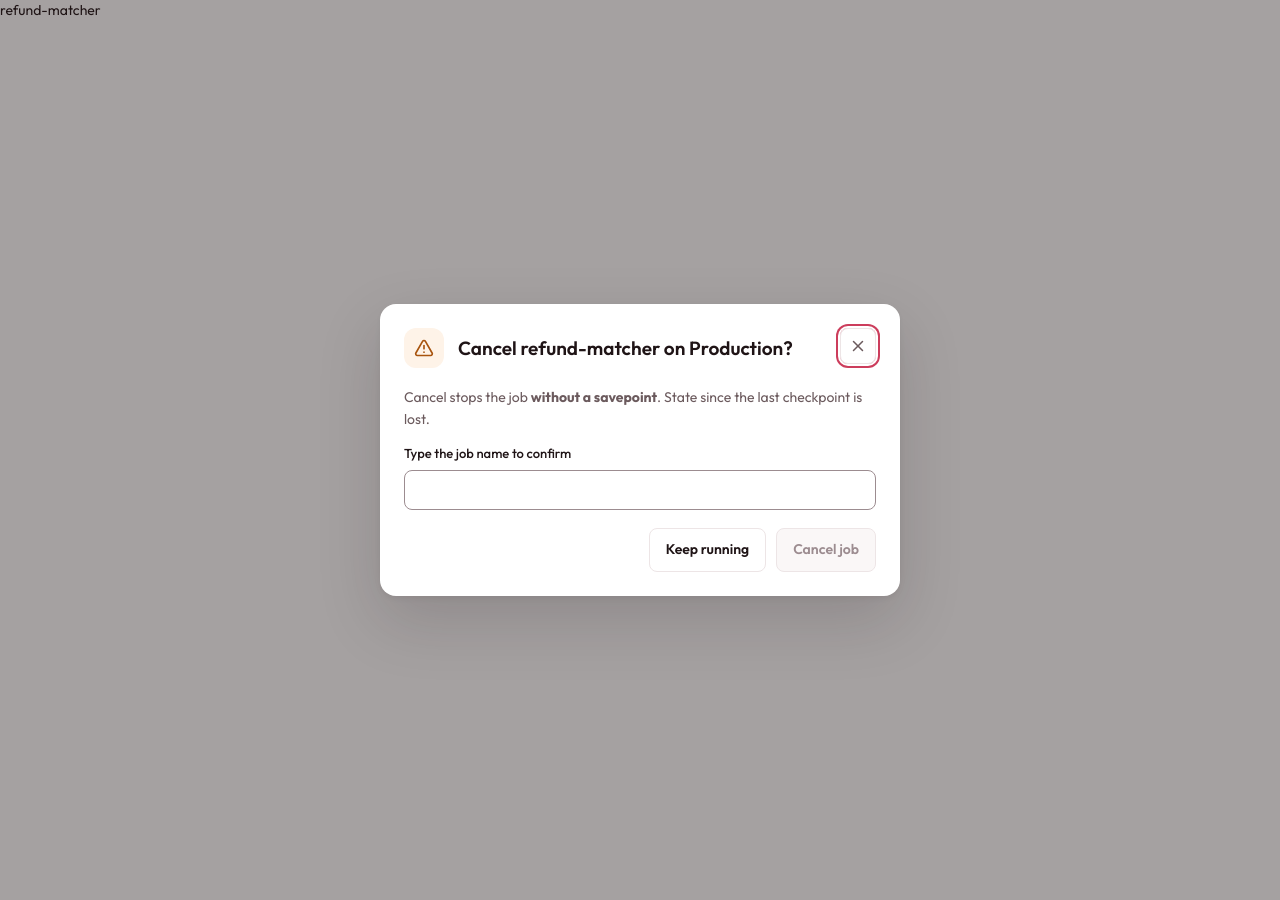
Test: ACT-02 · cancel (D15e) › D15e on prod: names the cost, needs the job name typed exactly before Cancel job does anything
This screenshot has width=1280, height=900.
expect the dialog "Cancel refund-matcher on Production?" shows "Cancel stops the job without a savepoint. State since the last checkpoint is lost.": met, box x1=380 y1=304 x2=900 y2=596
Type "refund-matc" into the field labelled "Type the job name to confirm" at (640, 490), box x1=404 y1=470 x2=876 y2=510
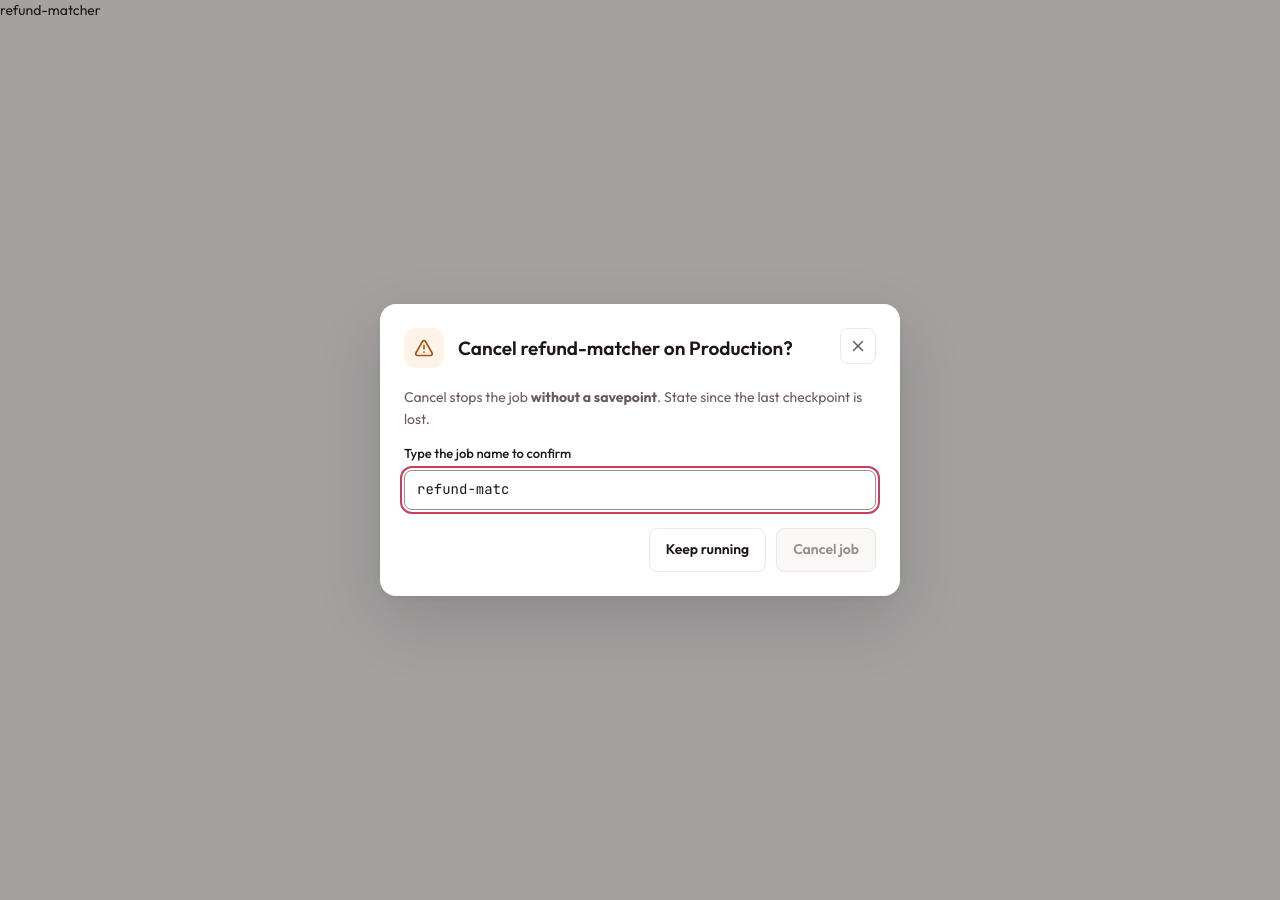
Click the button "Cancel job" at (826, 550), box x1=776 y1=528 x2=876 y2=572
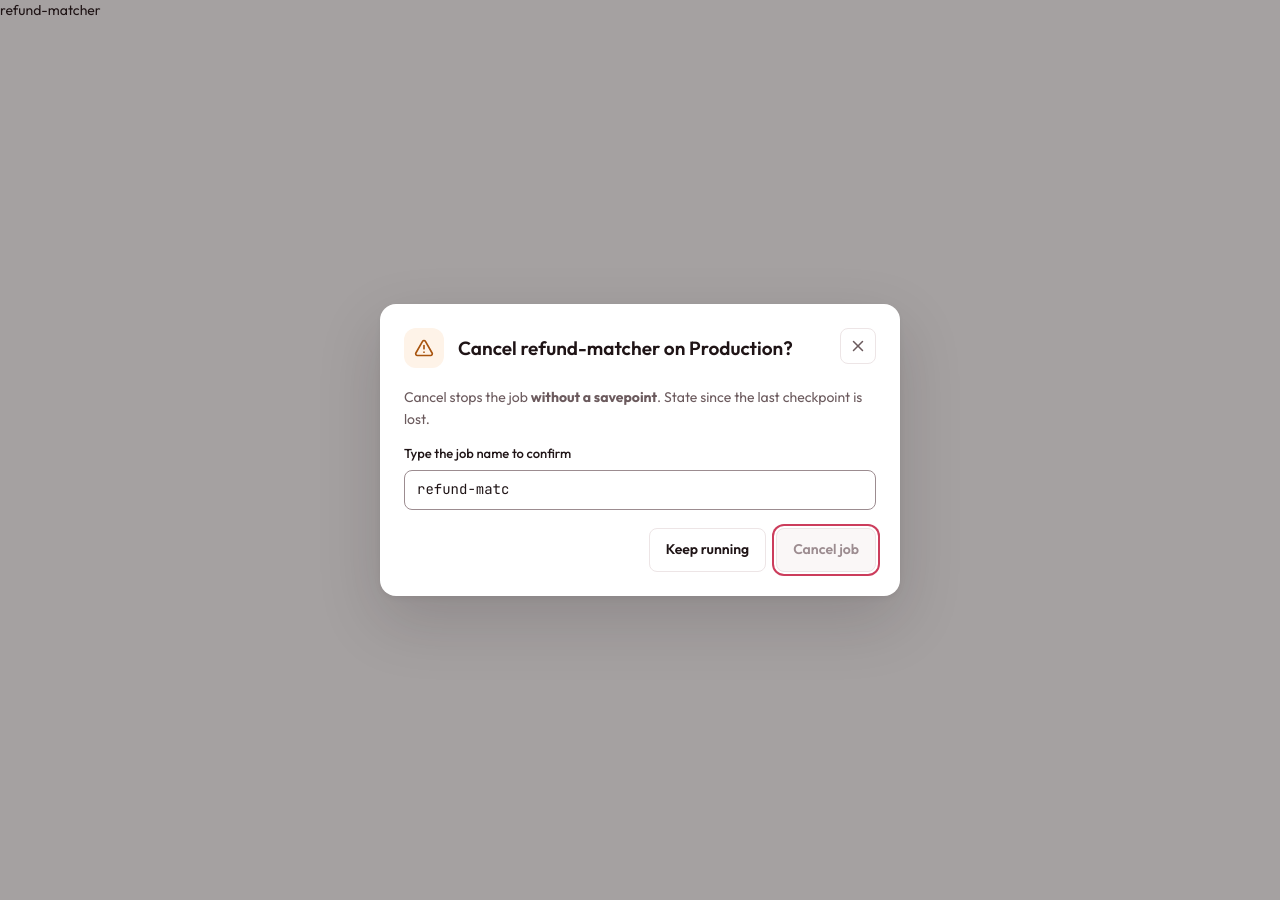
Type "her" into the field labelled "Type the job name to confirm" at (640, 490), box x1=404 y1=470 x2=876 y2=510
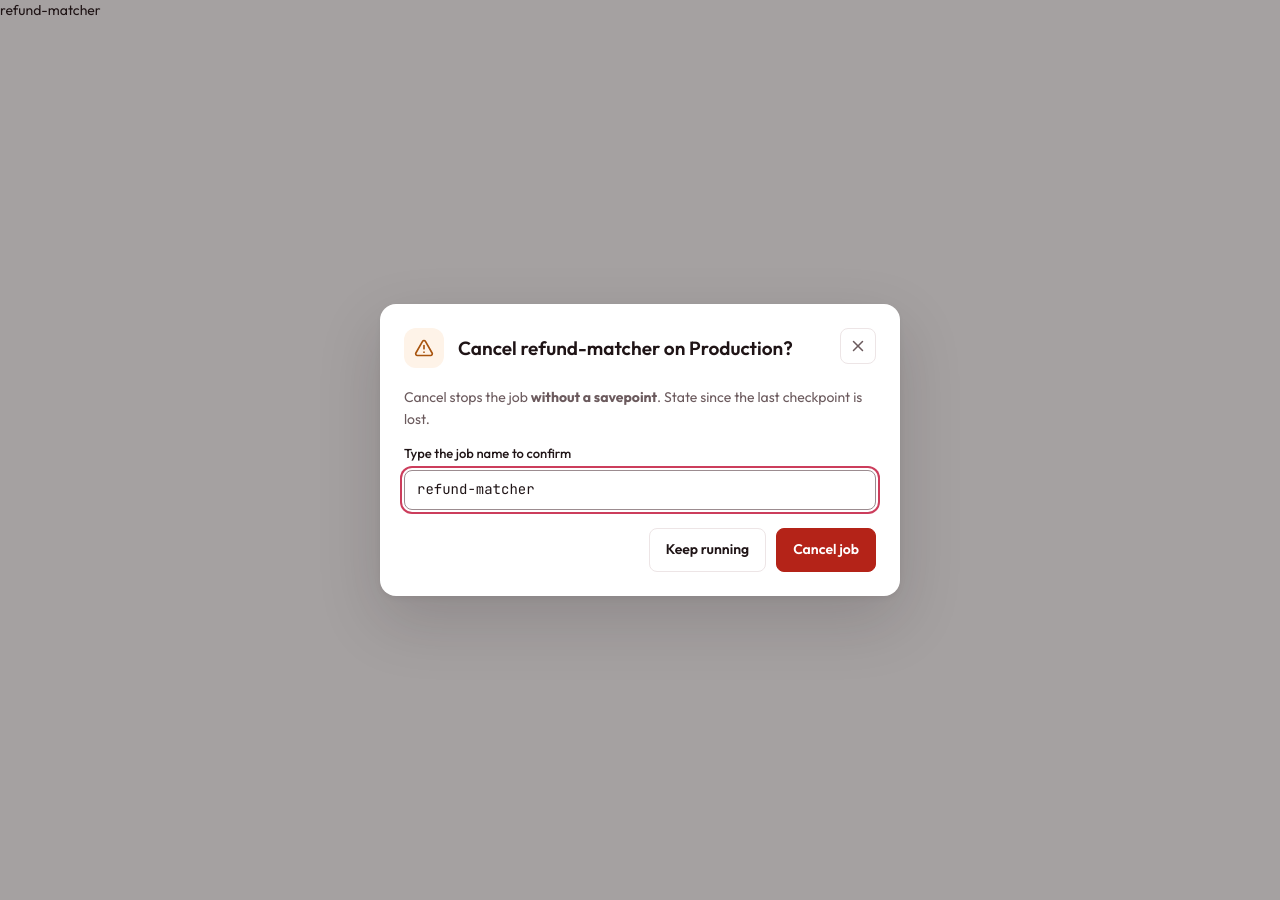
expect the button "Cancel job" does not have attribute aria-disabled: met
Click the button "Cancel job" at (826, 550), box x1=776 y1=528 x2=876 y2=572
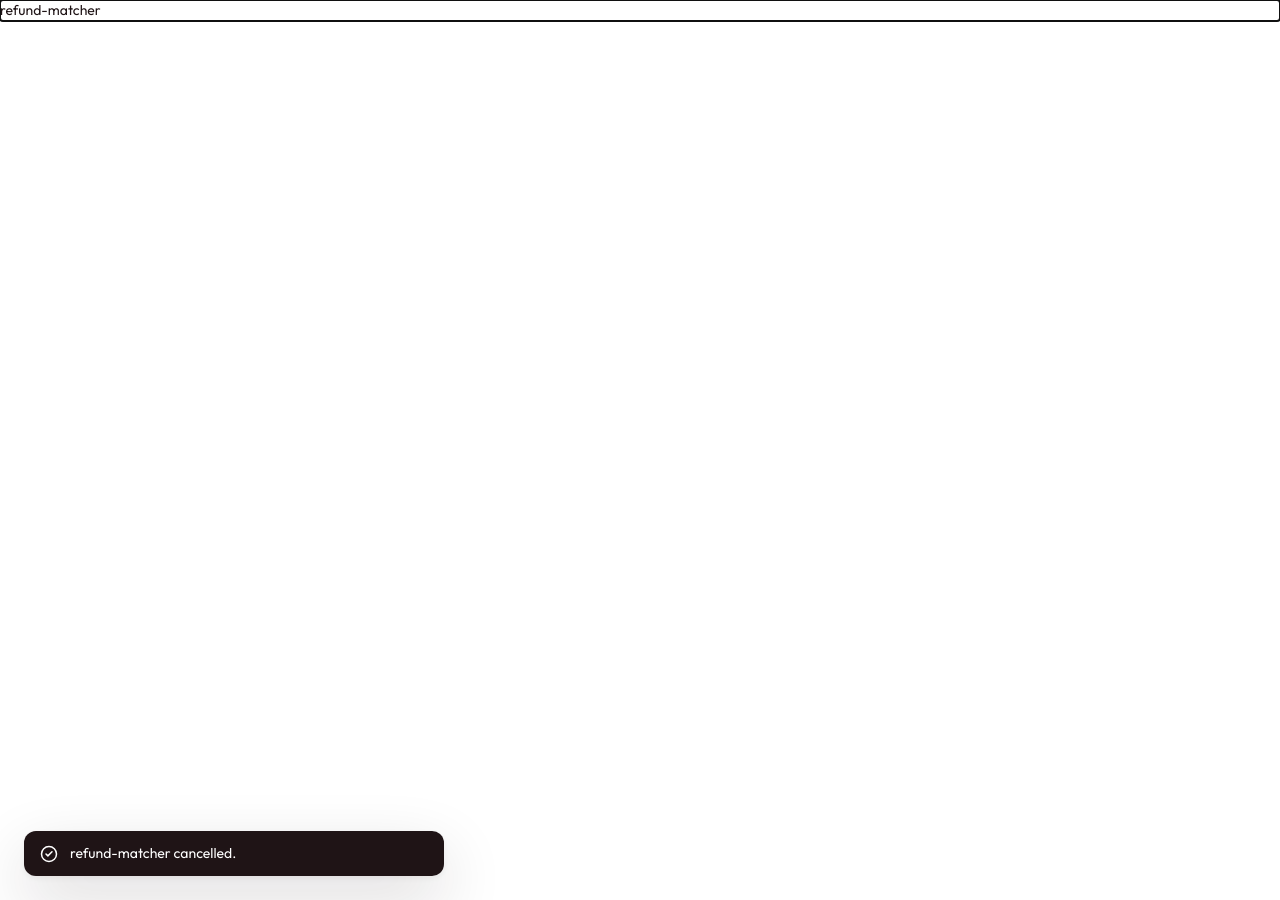
expect the dialog is gone: met
